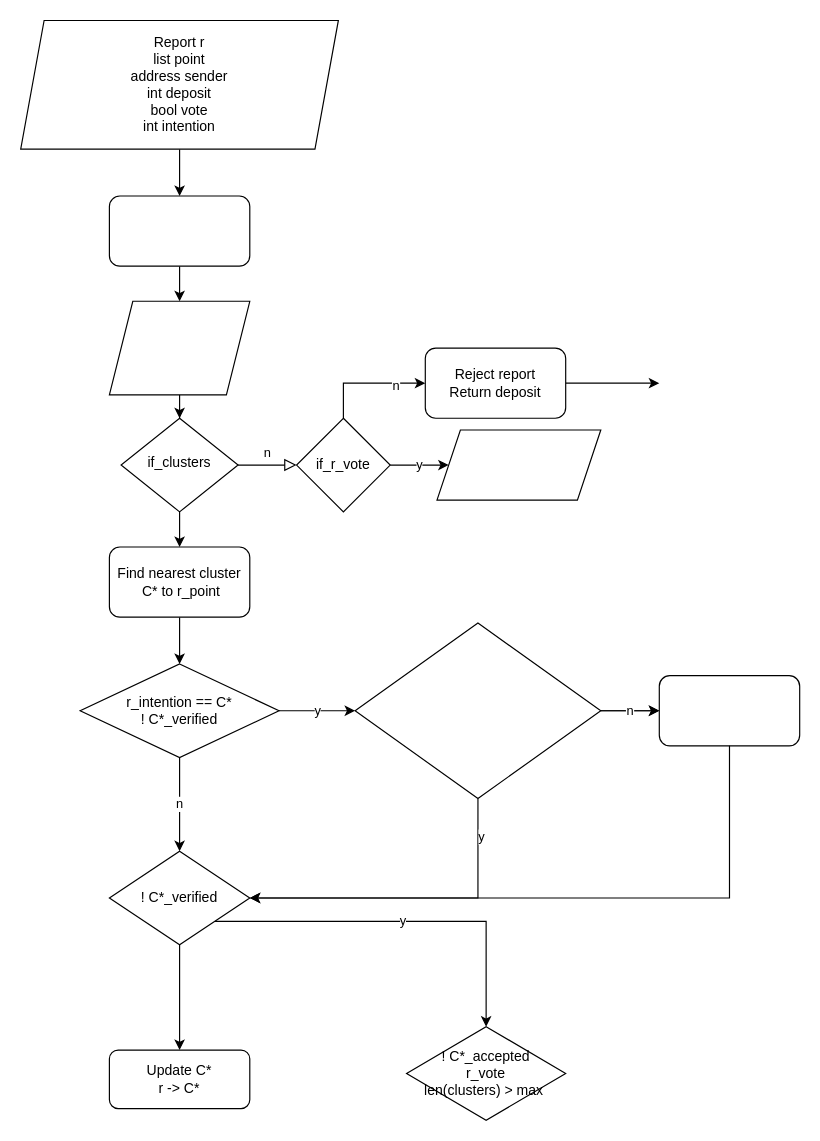
The diagram is 820 pixels wide and 1141 high, and some of its shapes have lost their labels. The shapes that lost their labels are listed below. From the top down, each one's centre as x and y in pixels, then its label:
At [179,230]: "Clustering 1-round K-means".
At [179,347]: "Cluster C list reports list outliers bool verified bool accepted".
At [518,464]: "New Cluster report_list = [r] outlier_list = []".
At [477,710]: "r_sender in C*_reports_senders or C*_outliers_senders".
At [729,710]: "Add r to C*_outliers".
